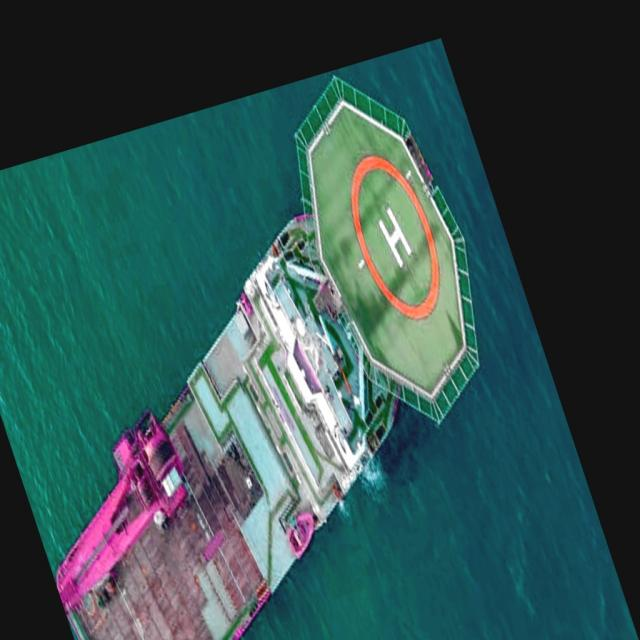helipad: (342, 148, 444, 324)
